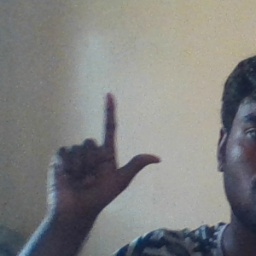L: (48, 91, 165, 214)
